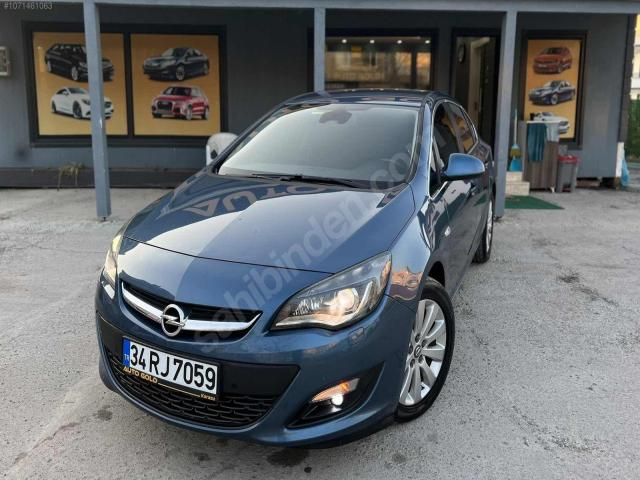plaka: (123, 339, 217, 396)
